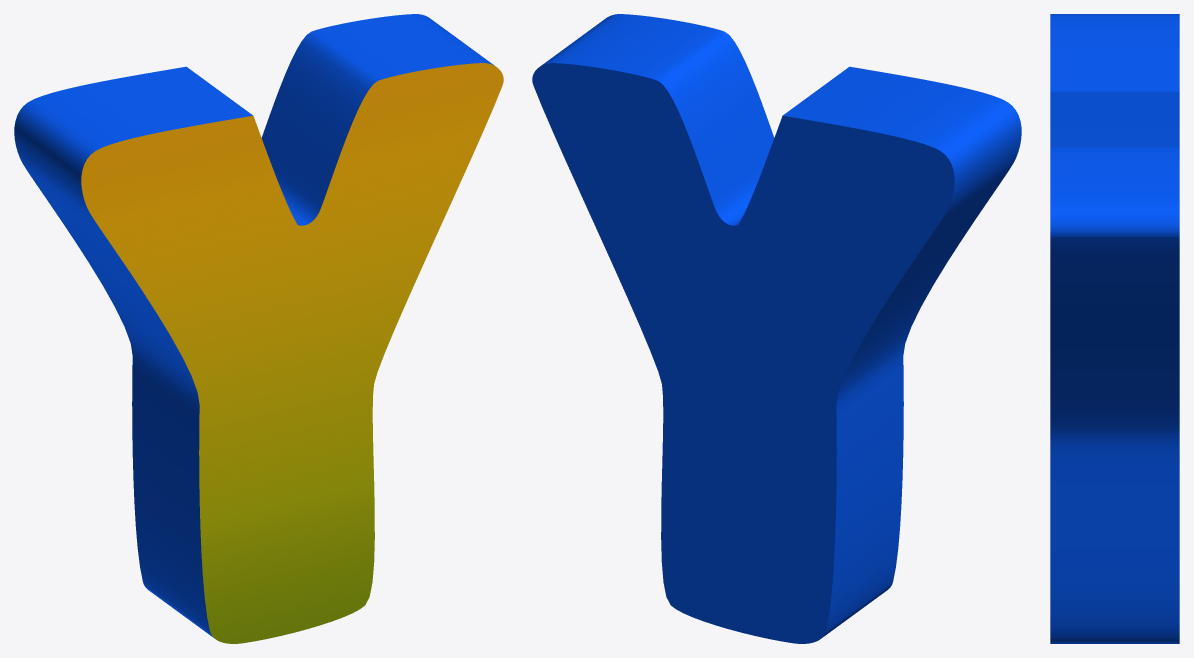
The picture shows the model from 3 angles, left to right: view 1: azimuth 30°, elevation 25°; view 2: azimuth 150°, elevation 25°; view 3: azimuth 270°, elevation 25°; orthographic projection. The views are drawn at different scales.
Parts seen in each view (by area): view 1: Y; view 2: Y; view 3: Y.
Boxes of the visible parts, box(x1,y1,x2,y2) form: Y: box(14, 14, 503, 643); Y: box(532, 14, 1021, 643); Y: box(1050, 14, 1179, 643).
Bounding box in the file's own units: 72.8 × 87.92 × 20.
2 materials, 1 textured.
